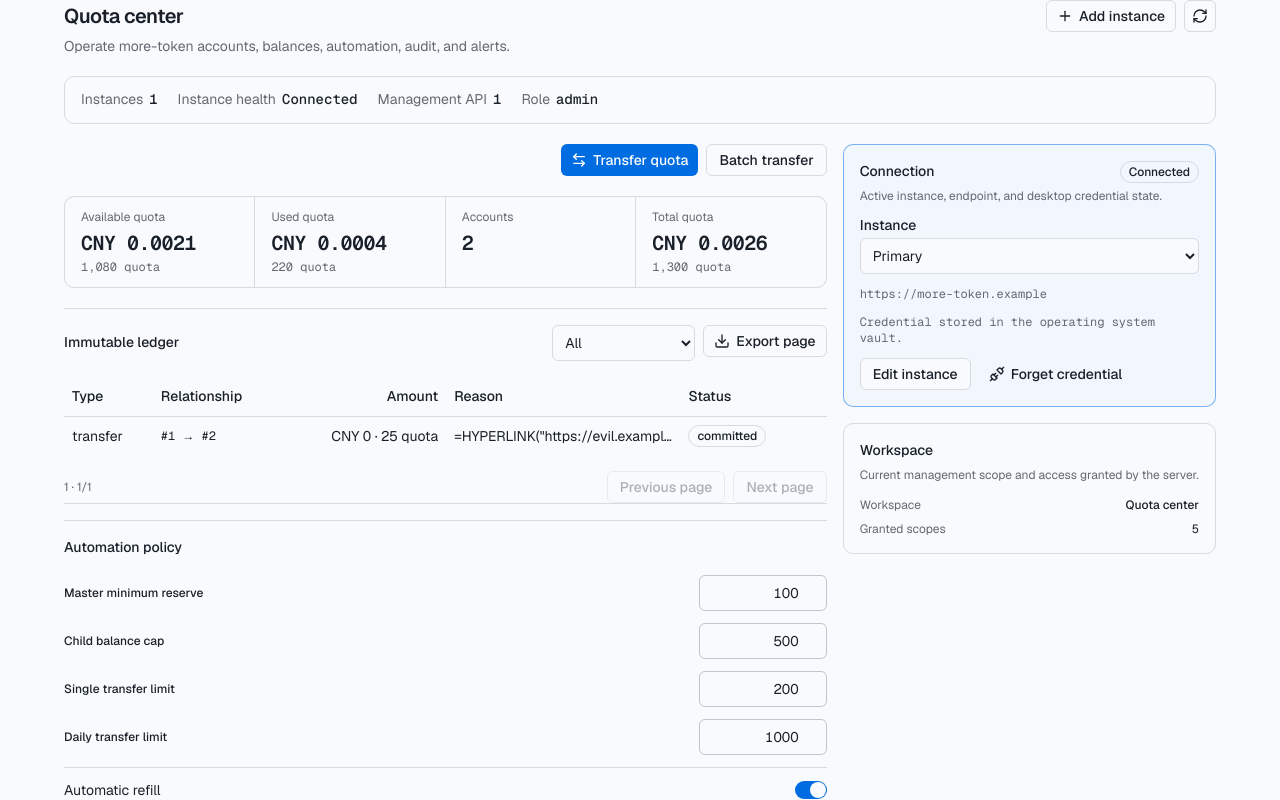
Test: lets a previewed transfer go back to editing
Click the button "Transfer quota" at [630, 160], box [561,144,698,176]
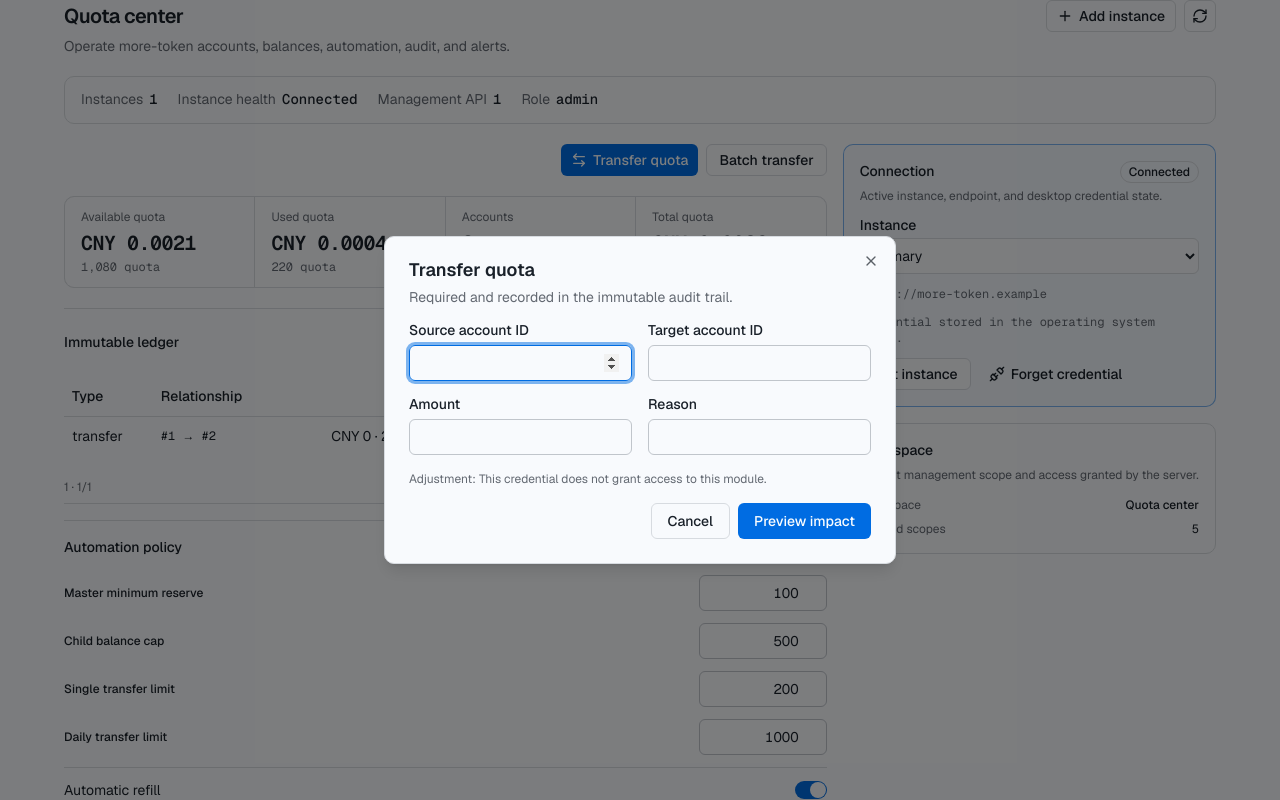
Type "1" into the number field labelled "Source account ID" at [520, 363], box [409,345,632,381]
Type "2" into the number field labelled "Target account ID" at [760, 363], box [648,345,871,381]
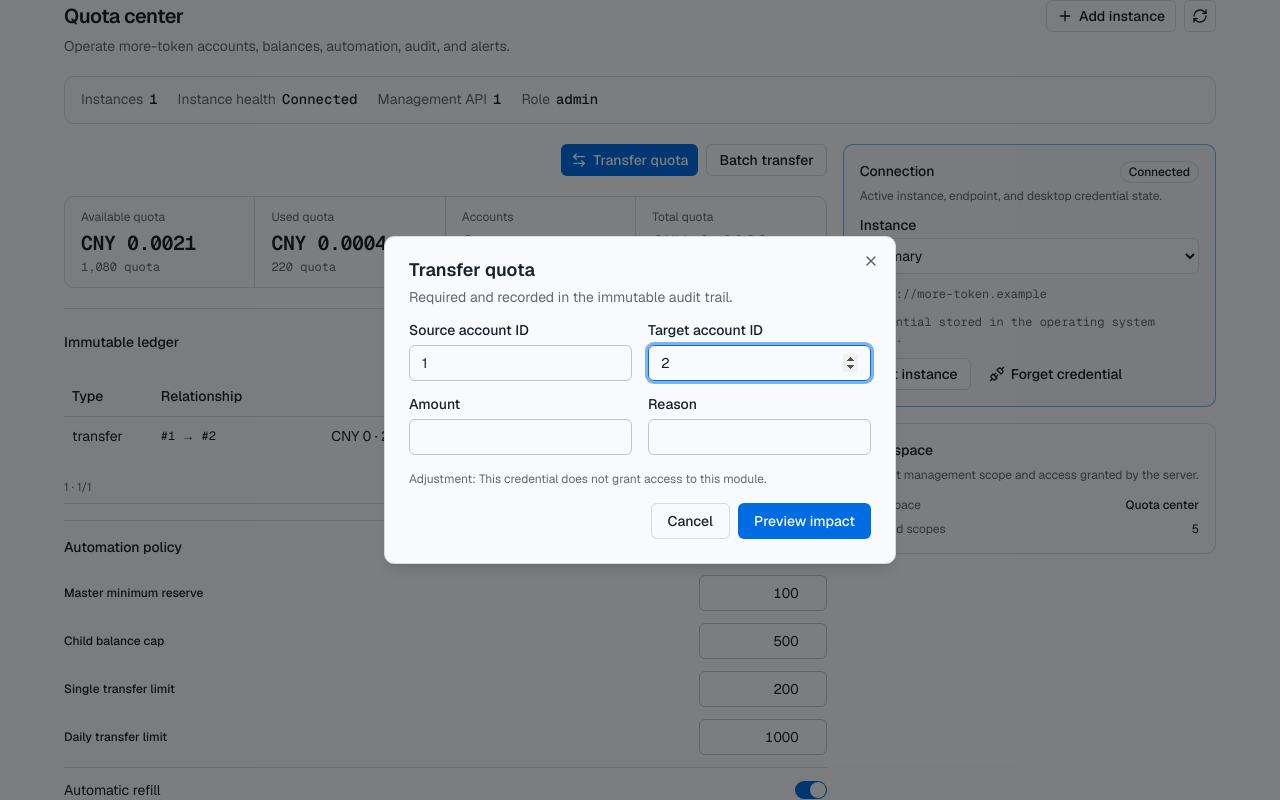
Type "10" into the number field labelled "Amount" at [520, 437], box [409,419,632,455]
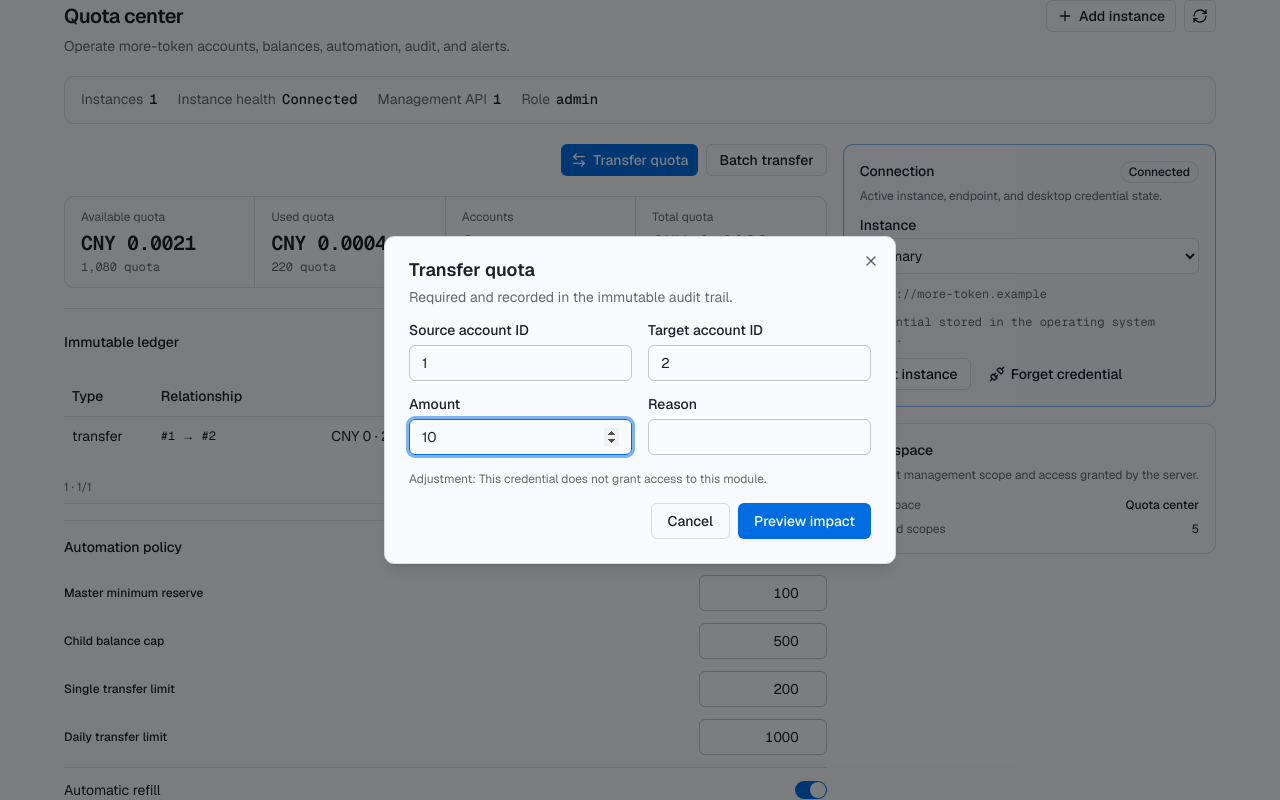
Type "rebalance" into the field labelled "Reason" at [760, 437], box [648,419,871,455]
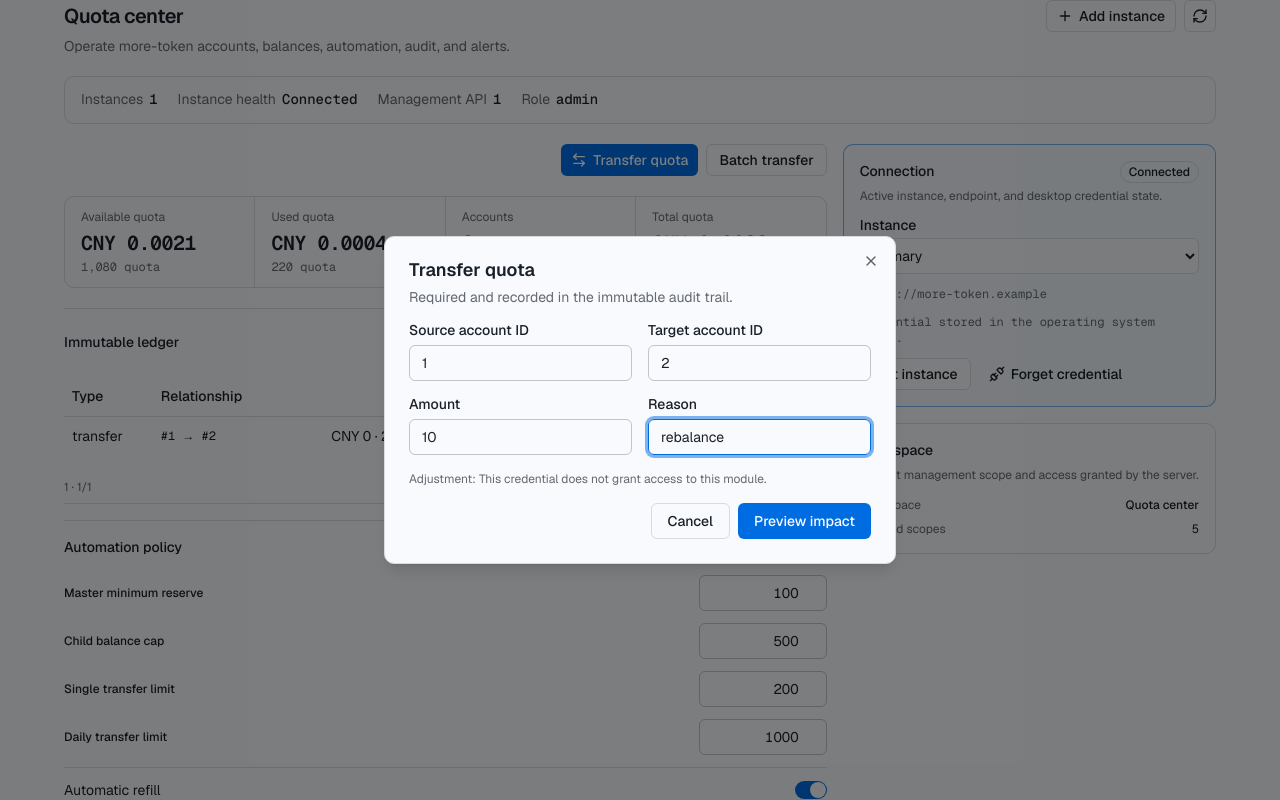
Click the button "Preview impact" at [805, 521], box [738,503,871,539]
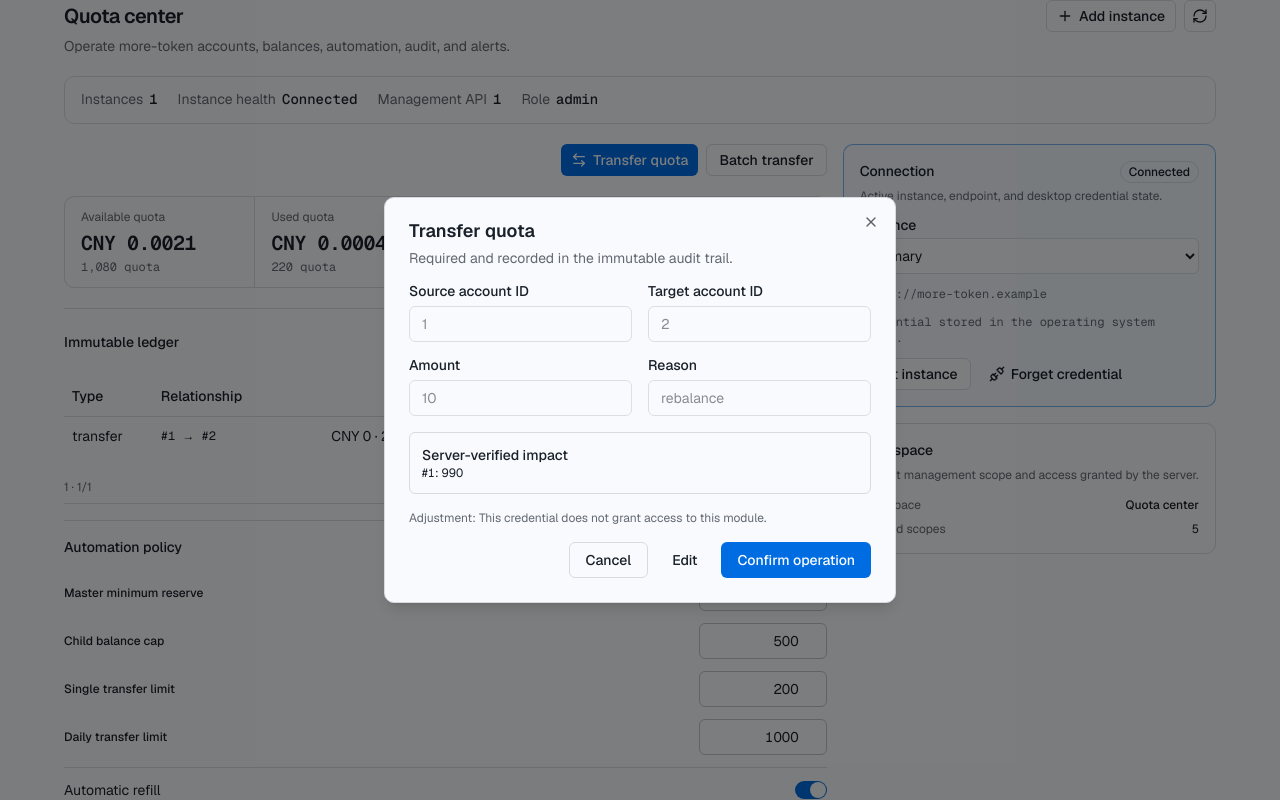
Click the button "Edit" at [685, 560], box [656,542,713,578]
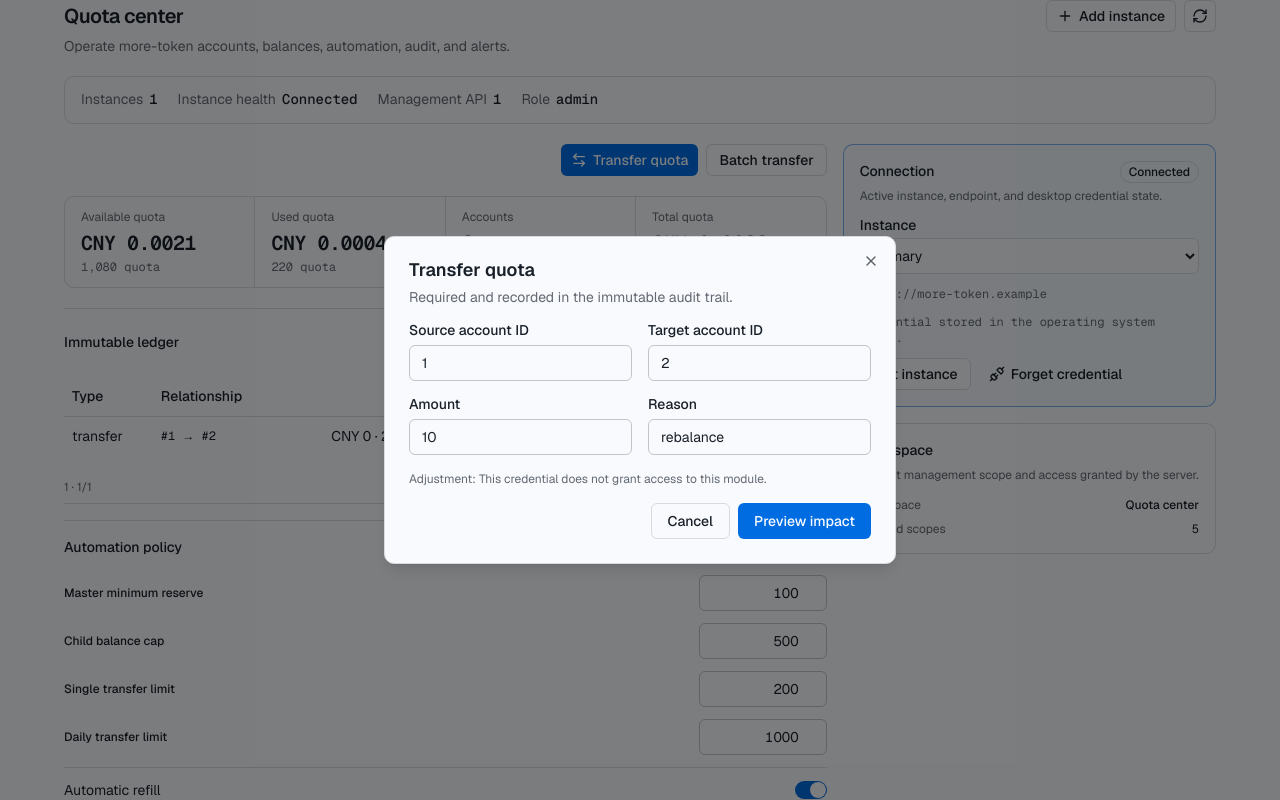
Check: the number field labelled "Amount" is enabled, box [409,419,632,455]
Check: the text "Server-verified impact" is gone
